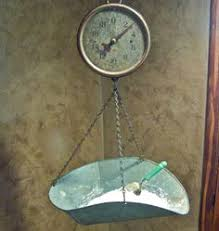Industrial Scale: (46, 1, 191, 226)
